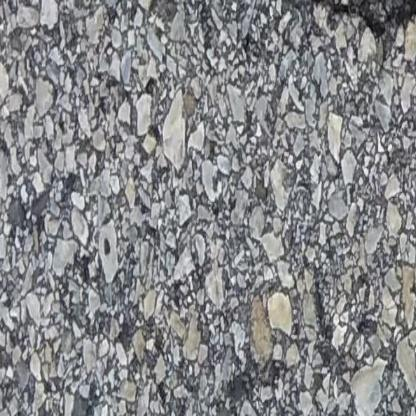Cracks: (280, 0, 416, 44)
